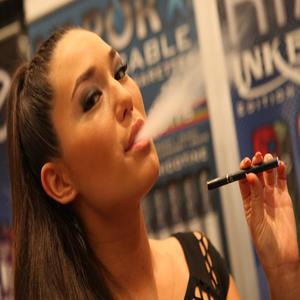cigarette: (204, 157, 280, 191)
